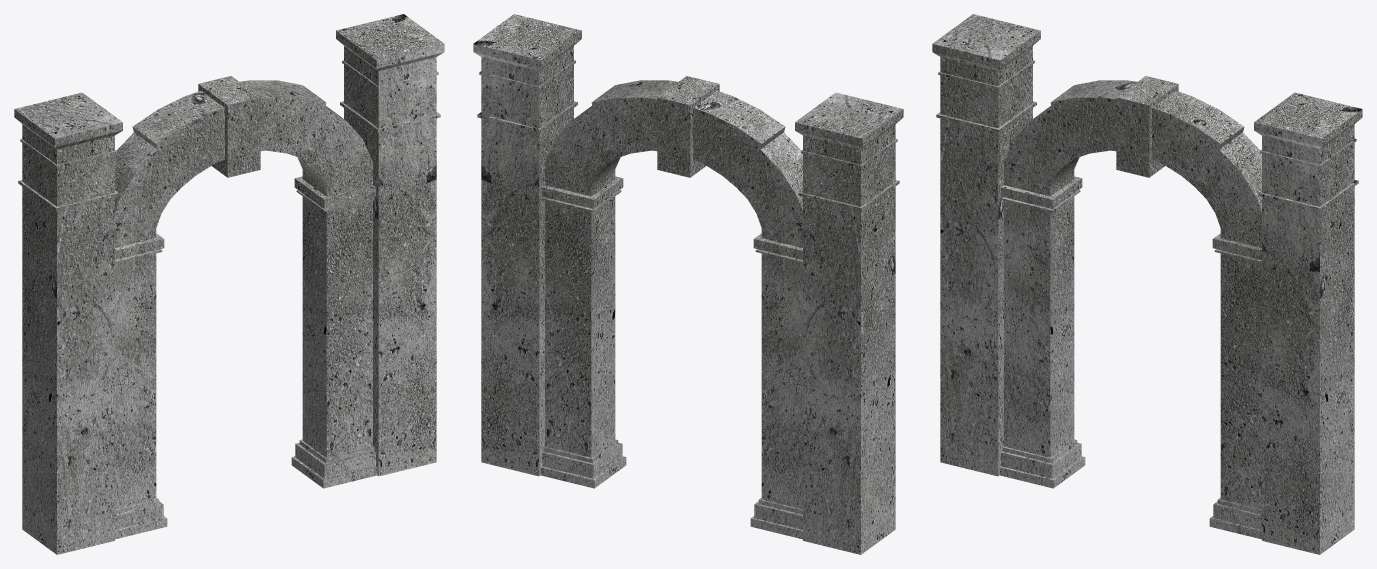
File: Stone arch.fbx
The picture shows the model from 3 angles, left to right: view 1: azimuth 30°, elevation 25°; view 2: azimuth 150°, elevation 25°; view 3: azimuth 330°, elevation 25°; orthographic projection.
Visible parts, largest first — view 1: Stone arch; view 2: Stone arch; view 3: Stone arch.
Part boxes in pixels (x1,y1,x2,y2): Stone arch: [14, 14, 444, 554]; Stone arch: [473, 14, 903, 554]; Stone arch: [932, 14, 1362, 554].
Size of the model in its own units: 263 by 271 by 47.8.
Materials: 1 (1 with a texture image).
